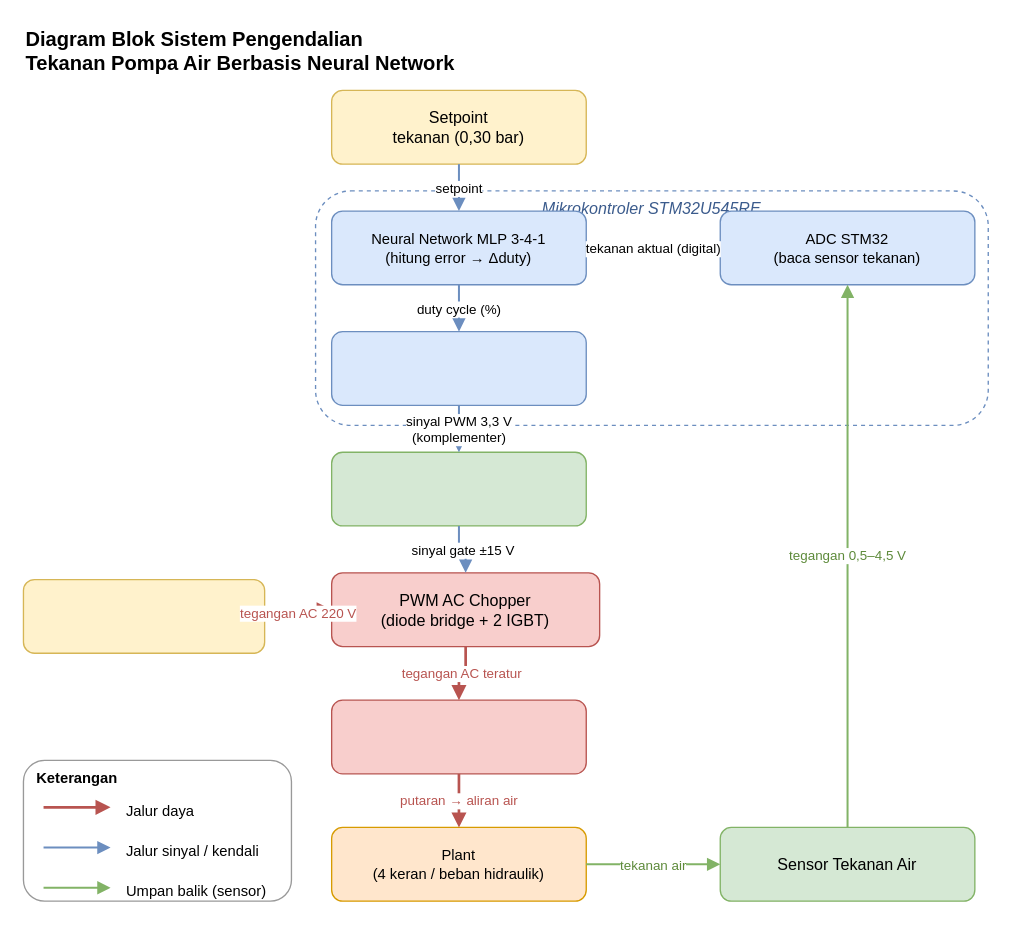
The diagram is 1012 pixels wide and 925 high, and some of its shapes have lost their labels. The centre of each missing label's shape, as x and y in pixels:
"Gate Driver HCPL-3120" goes at point 458,488.
"Motor Pompa Air" goes at point 458,736.
"Pembangkit PWM (TIM1 + dead time)" goes at point 458,367.
"Sumber AC 220 V (PLN)" goes at point 143,615.
